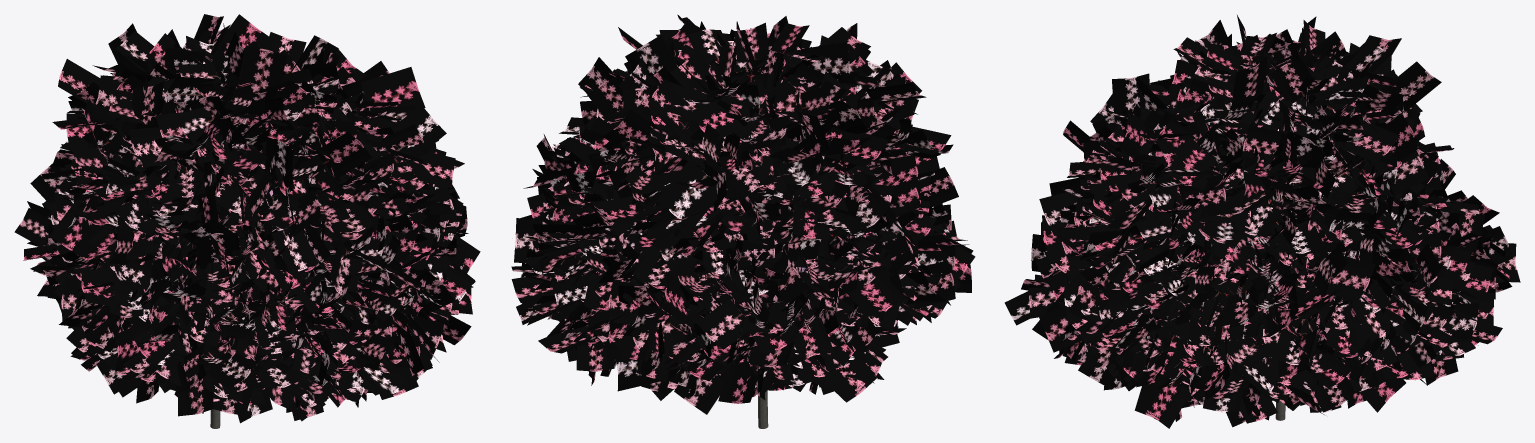
Rendered from tree_13_red_maple.glb.
3 renders of one model, left to right at view 1: azimuth 30°, elevation 25°; view 2: azimuth 150°, elevation 25°; view 3: azimuth 270°, elevation 25°, orthographic. The views are drawn at different scales.
Parts seen in each view (by area): view 1: tree_13_red_maple.leaves; view 2: tree_13_red_maple.leaves; view 3: tree_13_red_maple.leaves.
Part boxes in pixels (x1,y1,x2,y2): tree_13_red_maple.leaves: (14, 14, 480, 423); tree_13_red_maple.leaves: (511, 14, 975, 414); tree_13_red_maple.leaves: (1004, 15, 1520, 428).
Size of the model in its own units: 8.95 by 8.06 by 10.04.
3 materials, 2 textured.
